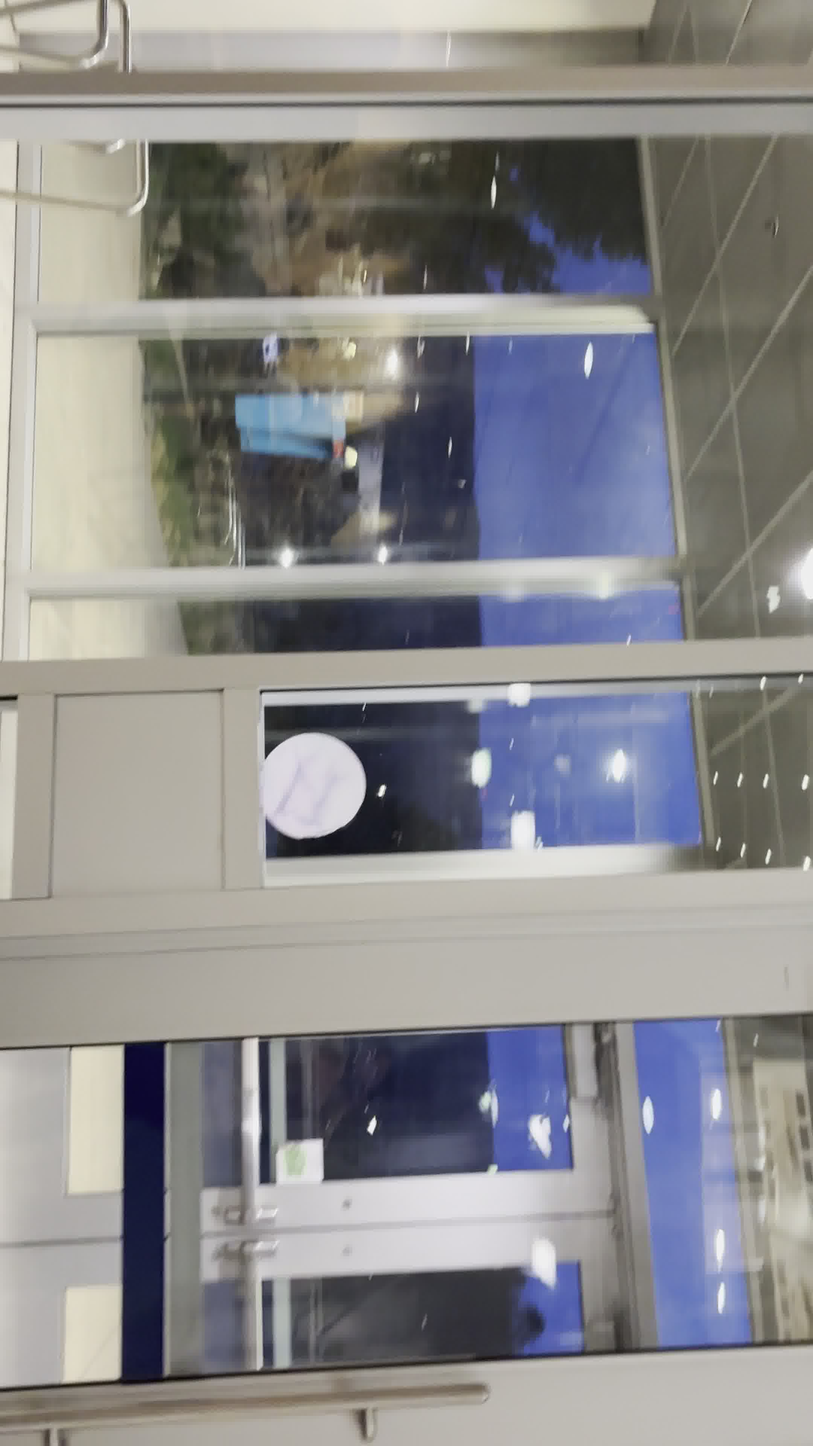Target: (257, 731, 369, 842)
